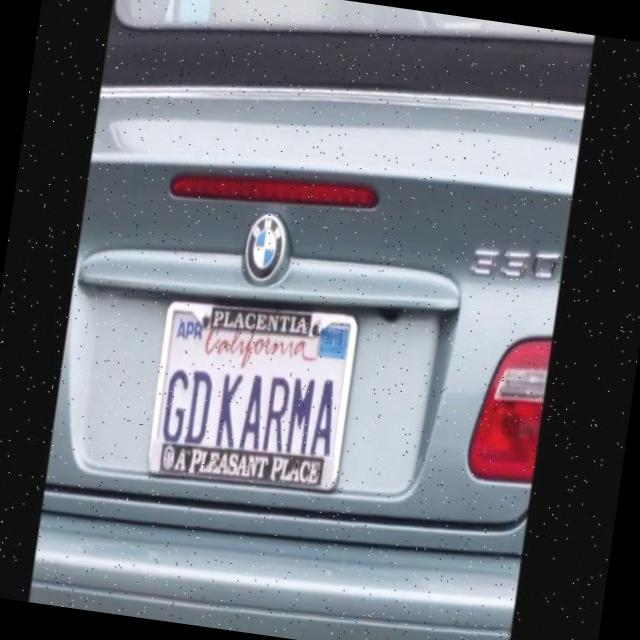LicensePlate: (140, 275, 373, 518)
